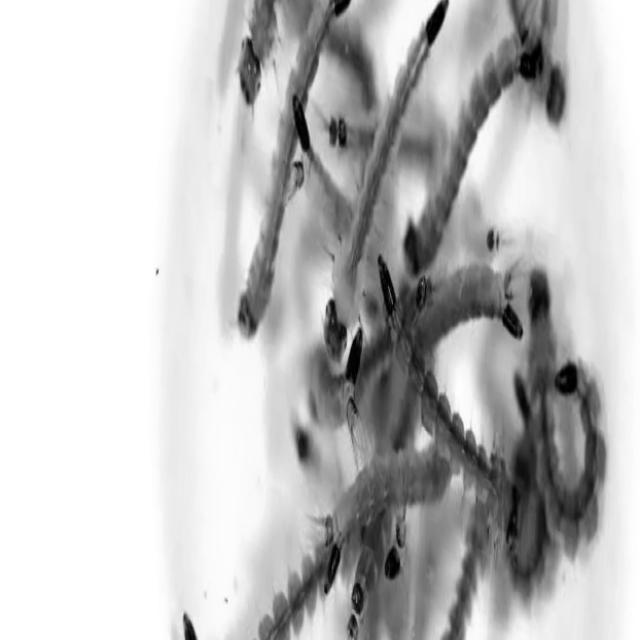larvas: (308, 0, 464, 365), (361, 259, 509, 533), (228, 0, 349, 334), (394, 48, 515, 279), (305, 441, 457, 582), (537, 358, 603, 535), (249, 540, 337, 640), (432, 252, 515, 342), (441, 511, 494, 636), (508, 0, 570, 104), (297, 123, 343, 232), (503, 451, 544, 568), (342, 536, 389, 631), (234, 0, 280, 95), (339, 23, 380, 107), (533, 257, 553, 361), (326, 110, 370, 148)
